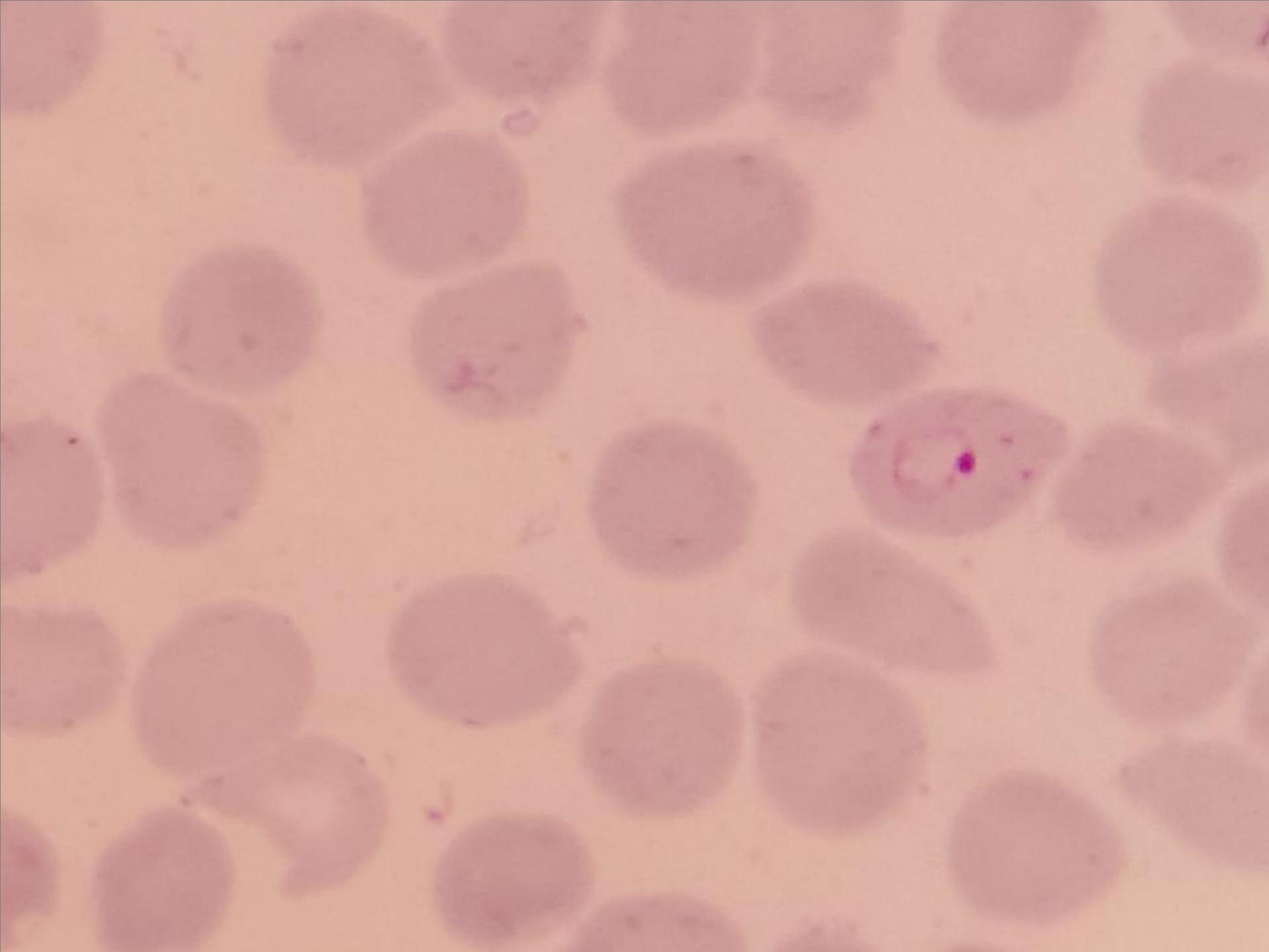Infected: (849, 382, 1068, 530)
Uninfected: (132, 601, 325, 786), (188, 728, 387, 898), (751, 654, 931, 838), (386, 572, 589, 732), (98, 368, 266, 552), (790, 532, 1001, 678), (616, 139, 808, 297), (406, 261, 586, 421), (265, 9, 445, 166), (584, 418, 757, 579), (580, 655, 744, 821), (944, 773, 1117, 924), (1092, 201, 1261, 353), (359, 126, 529, 275), (159, 244, 323, 395), (1084, 578, 1247, 727), (755, 281, 946, 406), (1052, 420, 1221, 552), (600, 5, 765, 139), (431, 813, 590, 946), (1118, 733, 1264, 874), (92, 811, 236, 951), (933, 5, 1098, 126), (1132, 63, 1269, 194), (759, 5, 903, 128), (3, 413, 104, 580), (1148, 328, 1269, 466), (443, 4, 603, 107), (4, 601, 120, 737)
